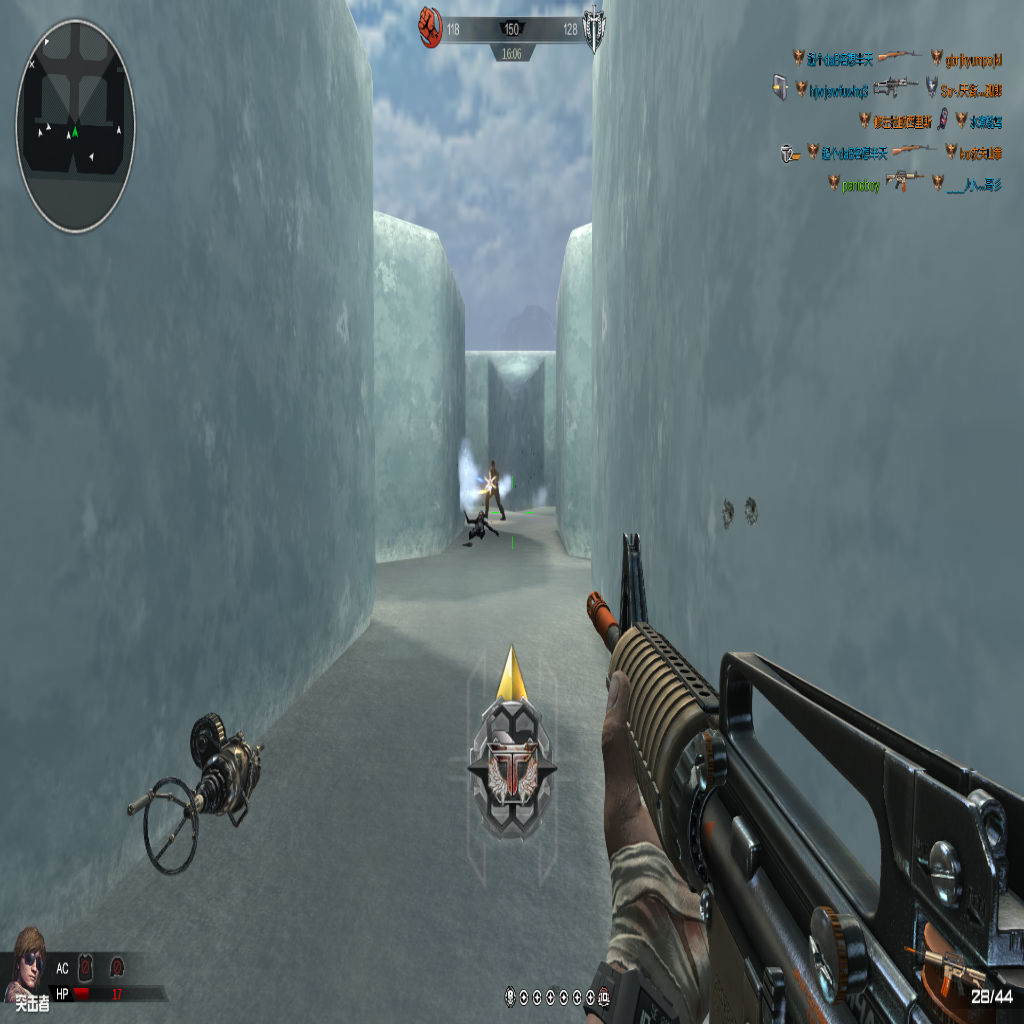ct: (483, 459, 504, 522)
